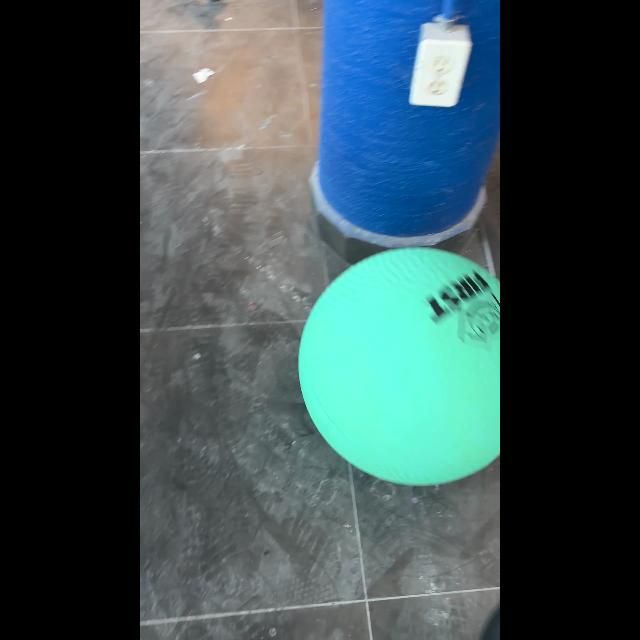ALGAE: (297, 246, 499, 487)
